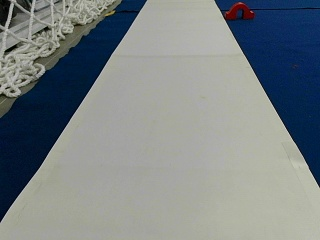bridge: (223, 2, 254, 18)
